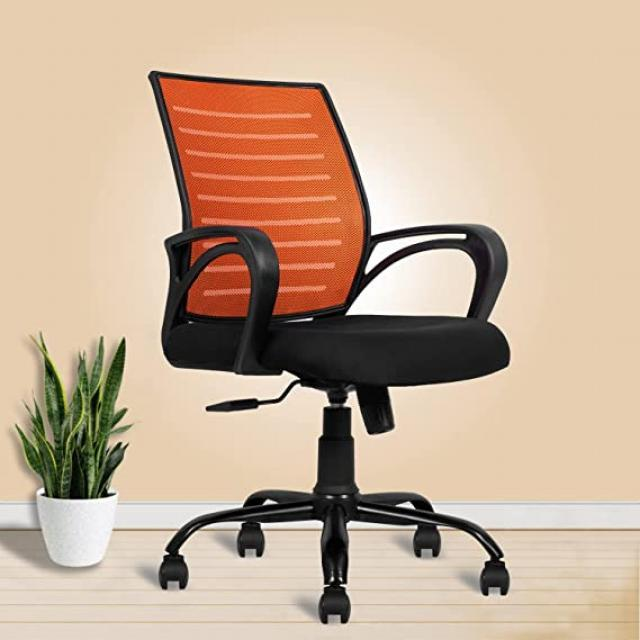chair: (146, 68, 514, 620)
